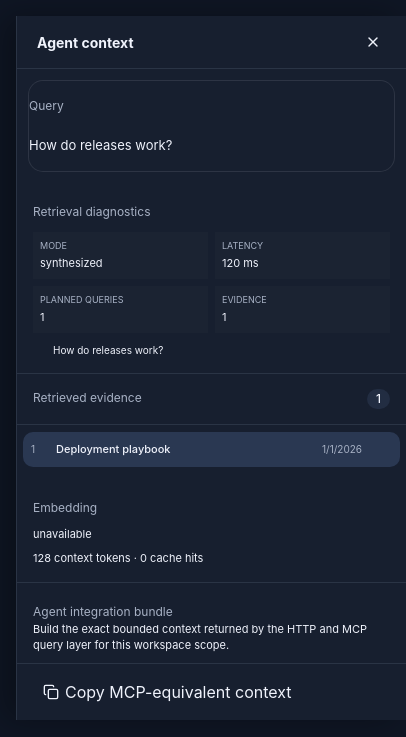
Test: Context panel copy action surfaces failures instead of failing silently
Click the button with aria-label "Copy agent context" at (167, 692), box [33,676,302,708]
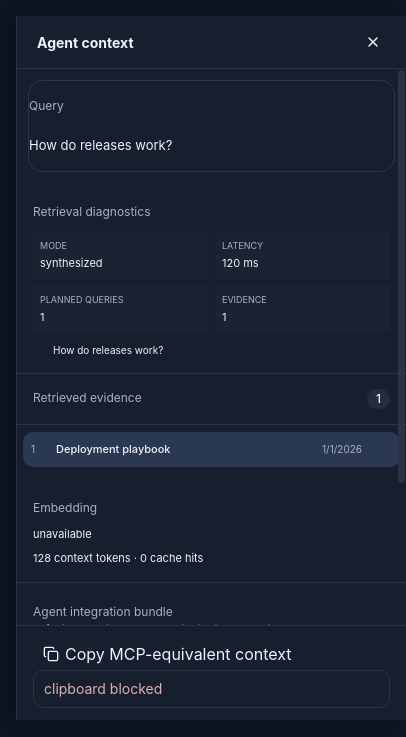
Expected: the message reads "clipboard blocked", [44,680,162,697]
